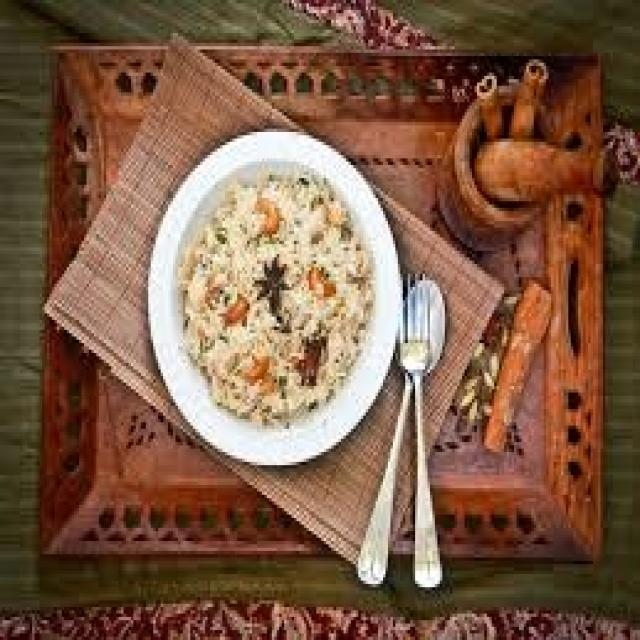nei satham: (177, 164, 374, 463)
